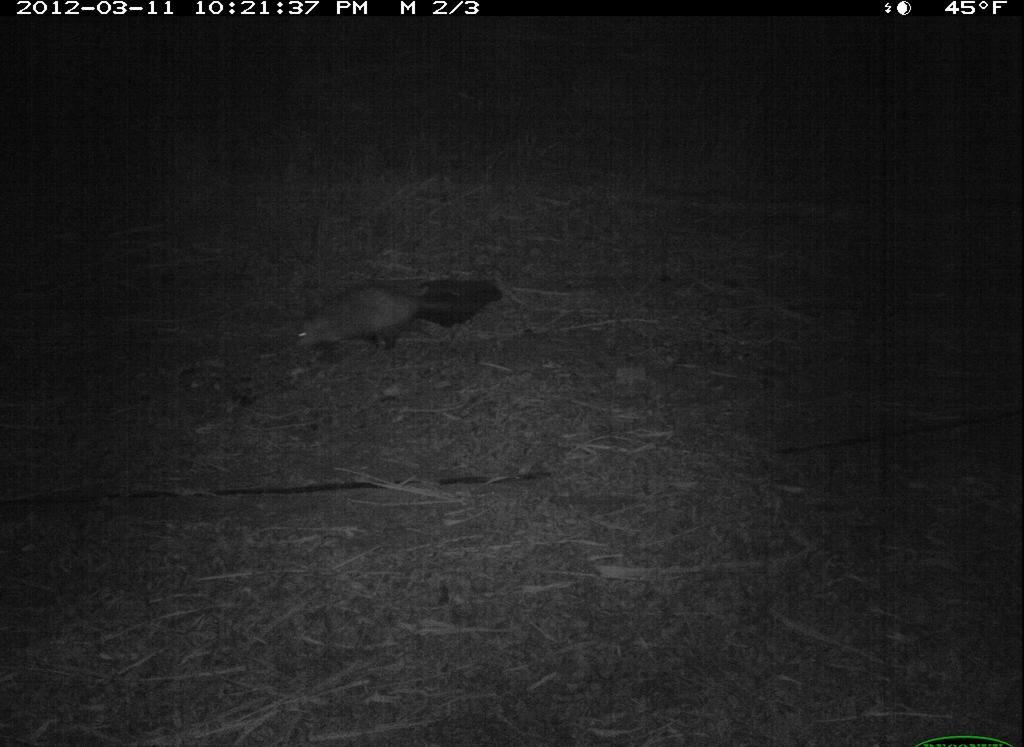opossum: (283, 281, 495, 368)
